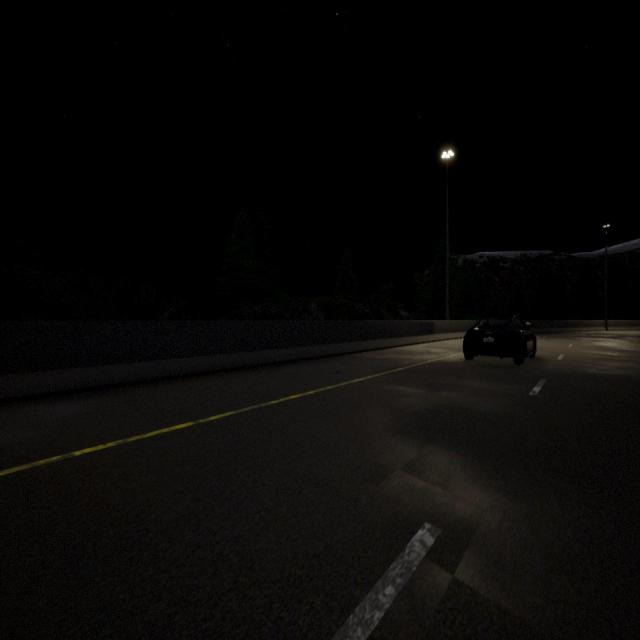Vehicle: (463, 316, 536, 364)
